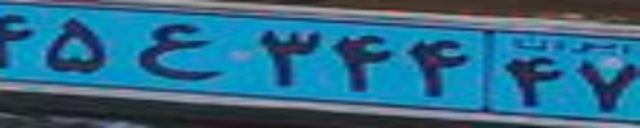3: (258, 28, 322, 87)
4: (330, 32, 392, 92), (406, 40, 466, 97), (502, 56, 562, 106), (1, 12, 35, 71)
5: (42, 16, 110, 75)
7: (571, 59, 637, 110)
ain: (136, 21, 224, 79)
